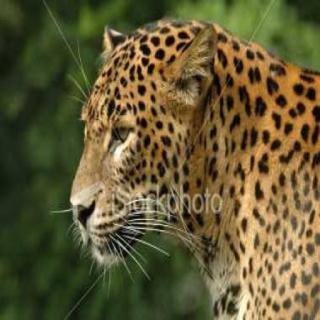Leopard: (67, 24, 320, 320)
